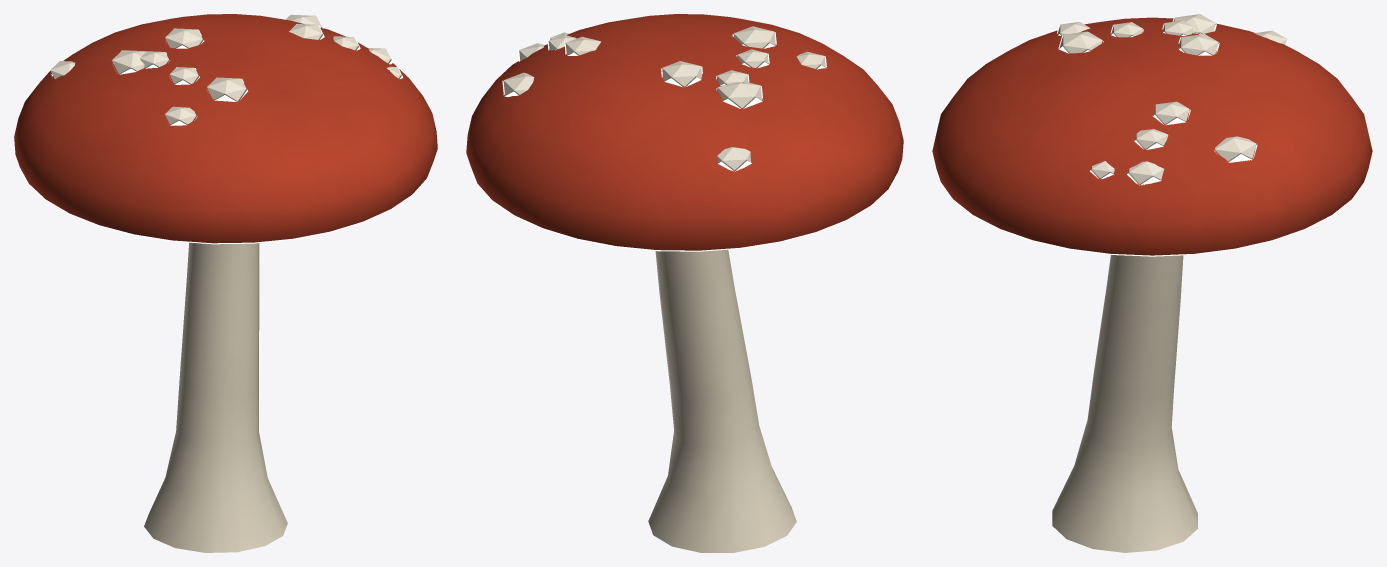
Rendered from houba_bedla.glb.
3 views of the same model, side by side, from view 1: azimuth 30°, elevation 25°; view 2: azimuth 150°, elevation 25°; view 3: azimuth 270°, elevation 25° (orthographic). The views are drawn at different scales.
Parts seen in each view (by area): view 1: houba_tren, noc; view 2: houba_tren, noc; view 3: houba_tren, noc.
Part boxes in pixels (x1,y1,x2,y2): houba_tren: (14,14,437,552); noc: (20,15,433,244); houba_tren: (466,14,903,552); noc: (471,32,897,251); houba_tren: (932,14,1372,552); noc: (941,18,1363,256).
Bounding box in the file's own units: 5.19 × 6.33 × 5.19.
Materials: 2 (1 with a texture image).
